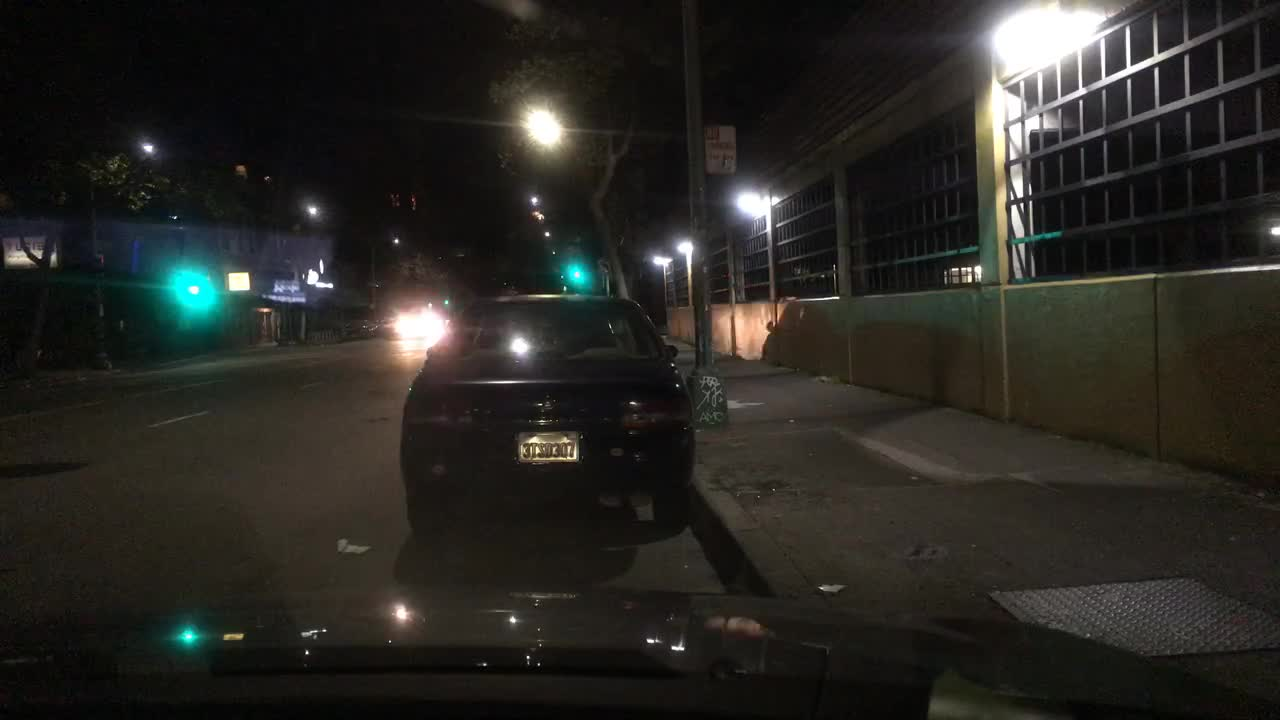car: (398, 290, 698, 540), (392, 304, 441, 343)
traffic light: (185, 270, 199, 300), (572, 261, 583, 287)
traffic sign: (701, 121, 739, 179)
